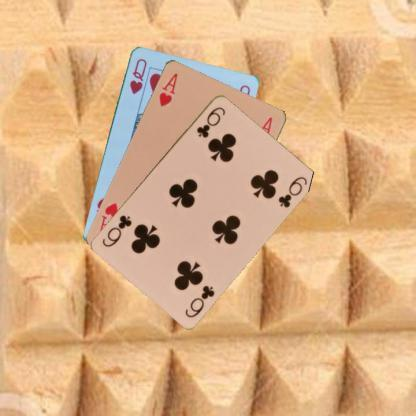6c: (182, 282, 216, 319), (194, 104, 228, 139)
Ah: (156, 70, 179, 107)
Qh: (126, 56, 148, 96)
